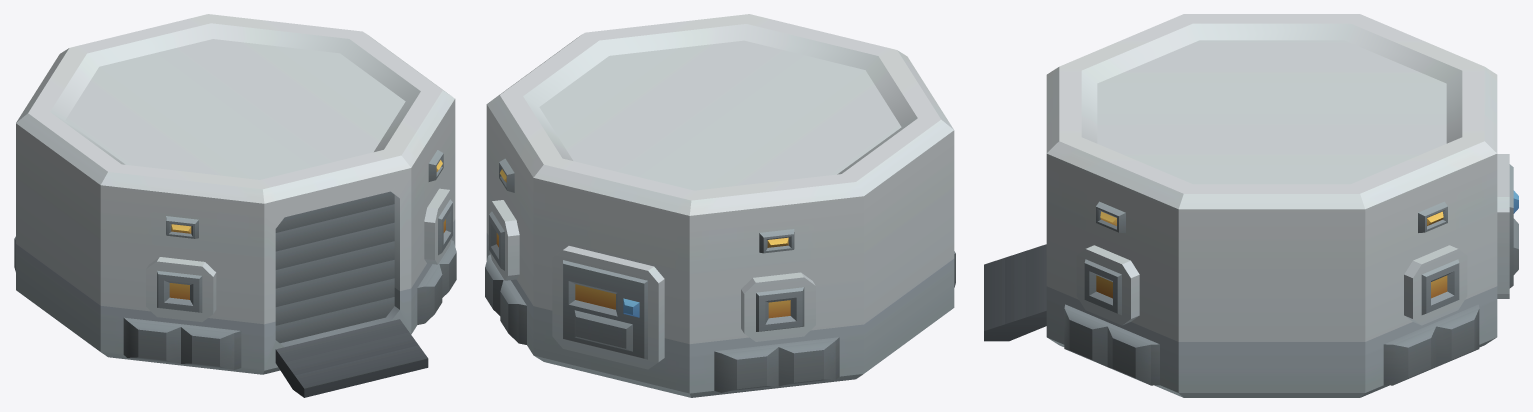
Rendered from basemodule-garage.glb.
The picture shows the model from 3 angles, left to right: view 1: azimuth 30°, elevation 25°; view 2: azimuth 150°, elevation 25°; view 3: azimuth 270°, elevation 25°; orthographic projection. The views are drawn at different scales.
Visible parts, largest first — view 1: Cylinder.2718, basemodule_garage_door; view 2: Cylinder.2718; view 3: Cylinder.2718.
Boxes of the visible parts, <box> form: Cylinder.2718: <box>14,14,456,397</box>; basemodule_garage_door: <box>275,191,394,343</box>; Cylinder.2718: <box>485,14,955,397</box>; Cylinder.2718: <box>984,14,1518,397</box>.
Size of the model in its own units: 2 by 0.9999 by 2.37.
Materials: 1 (1 with a texture image).
